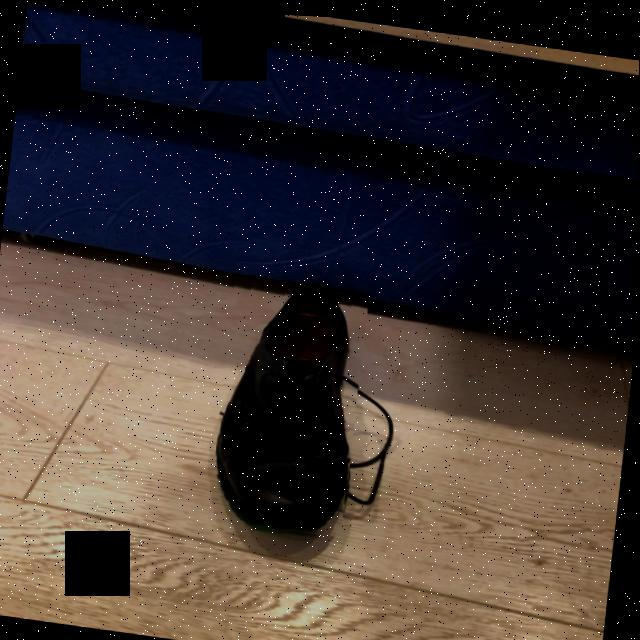shoe: (217, 280, 352, 529)
